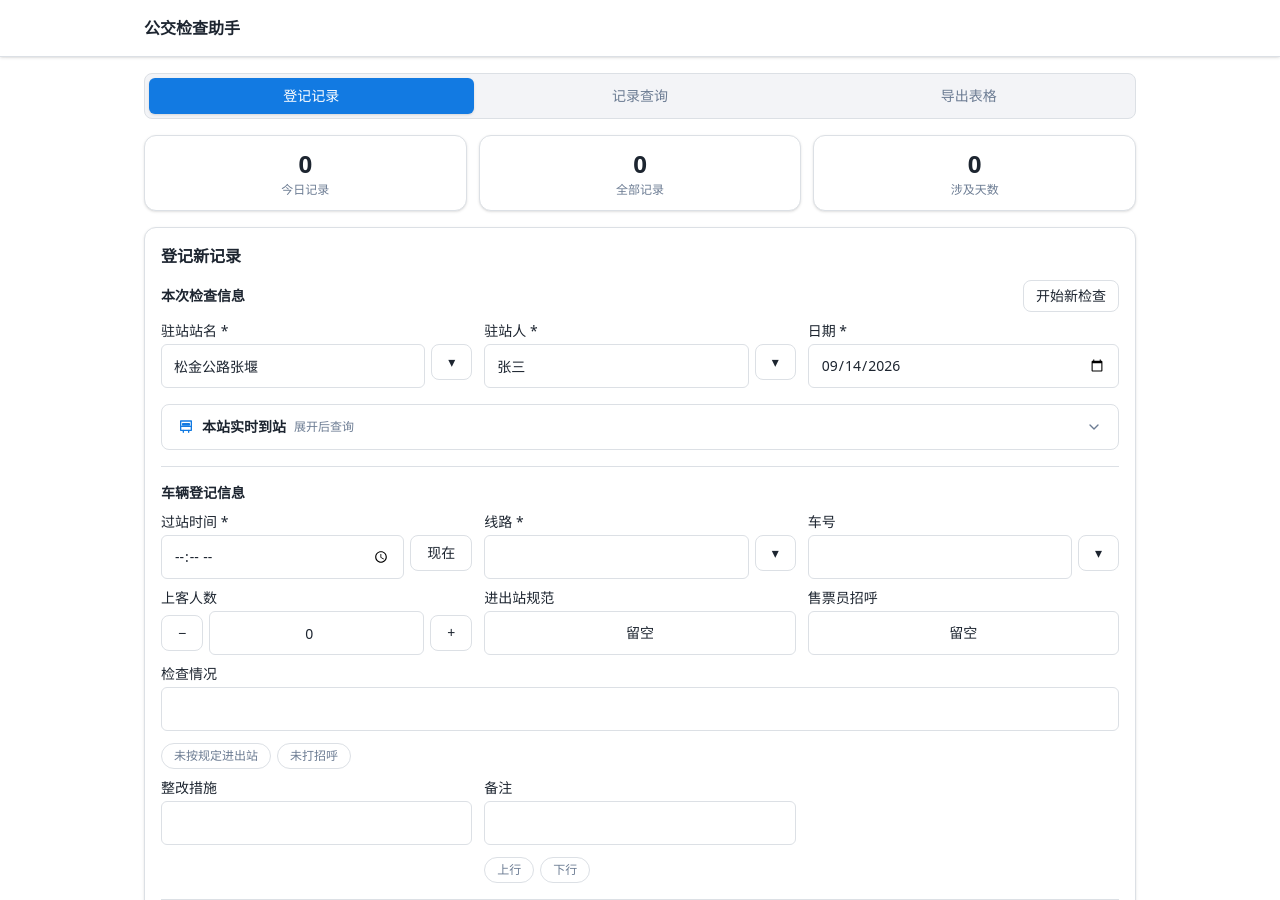
Test: 驻站实时到站面板 › 请求失败时提示失败并可重试
Click the text "本站实时到站" at [244, 427], box x1=202 y1=417 x2=286 y2=437
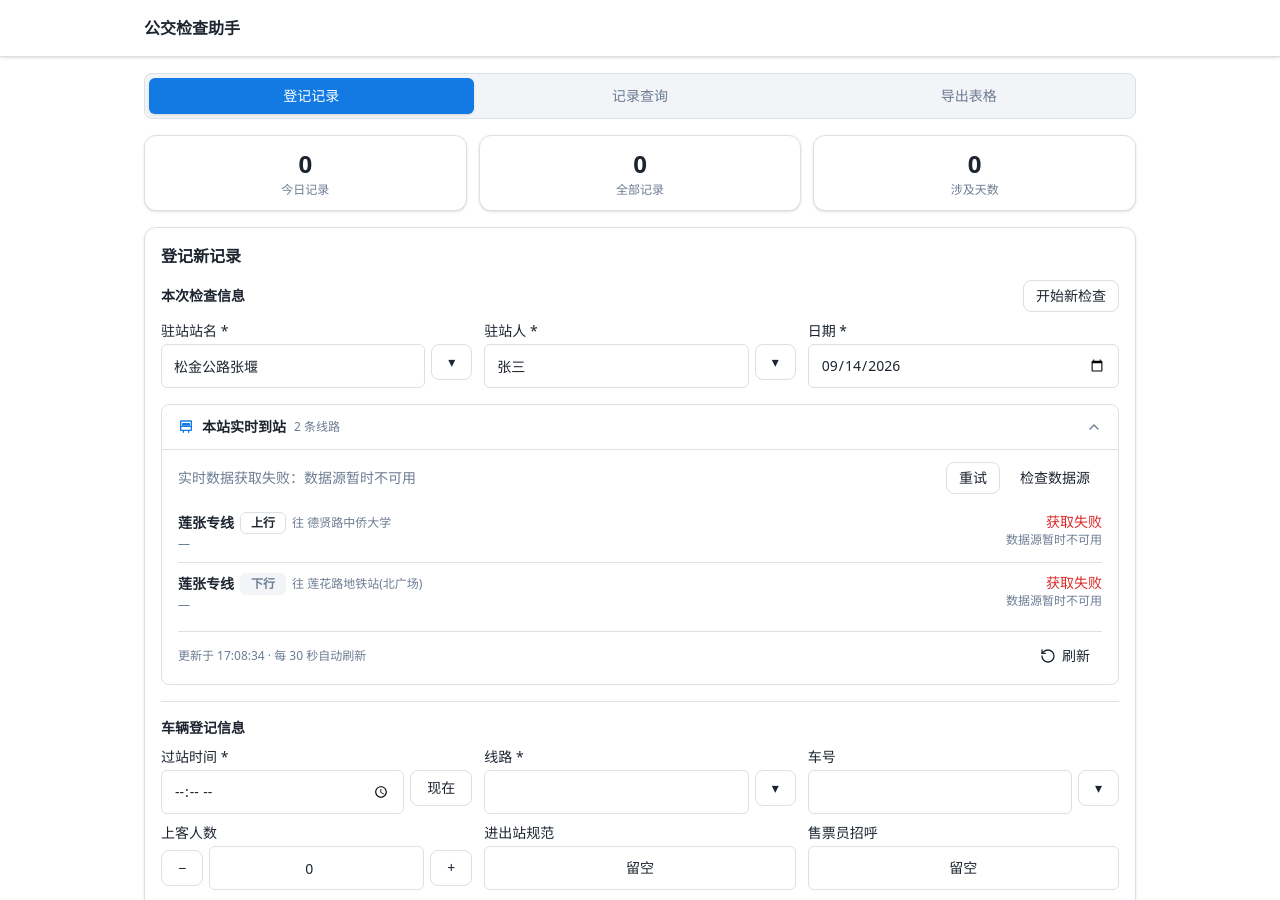
Now the text "实时数据获取失败：数据源暂时不可用" is shown, box x1=178 y1=468 x2=416 y2=488
Now the button "重试" is shown, box x1=946 y1=462 x2=1000 y2=494
